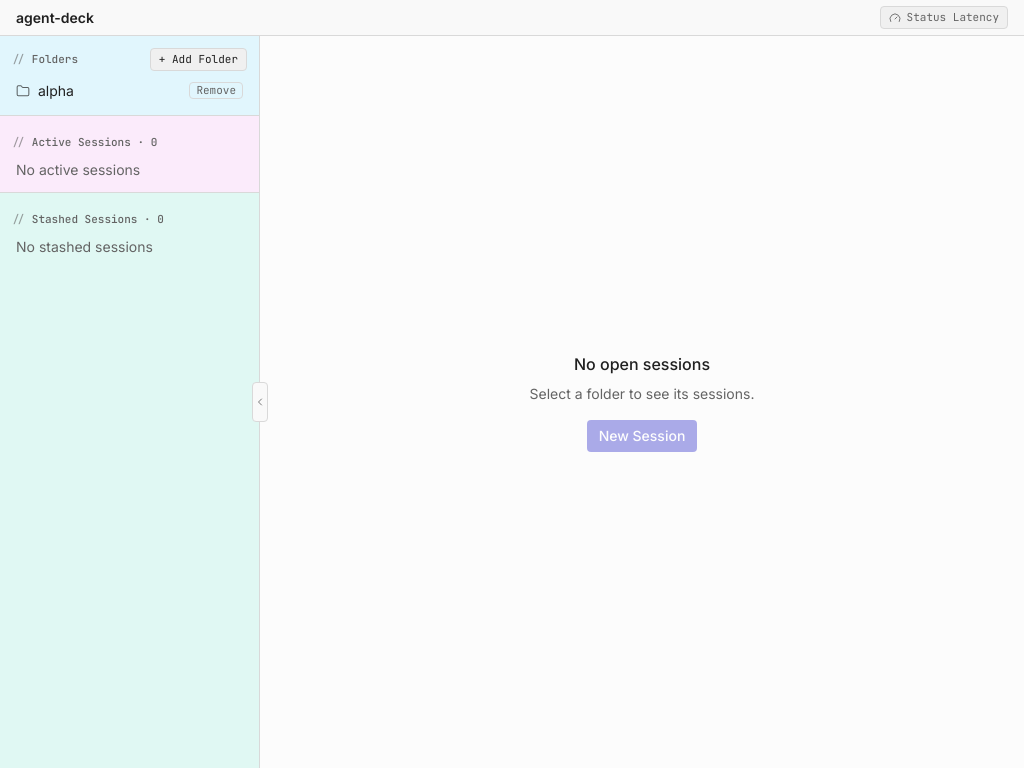
robustness (fix round 1) › shows a toast when remove rejects
The width and height of the screenshot is (1024, 768).
Expected: the text "alpha" is shown, [38,80,74,100]
Click the button with aria-label "Remove alpha".
click(216, 90)  # box [189,82,243,99]
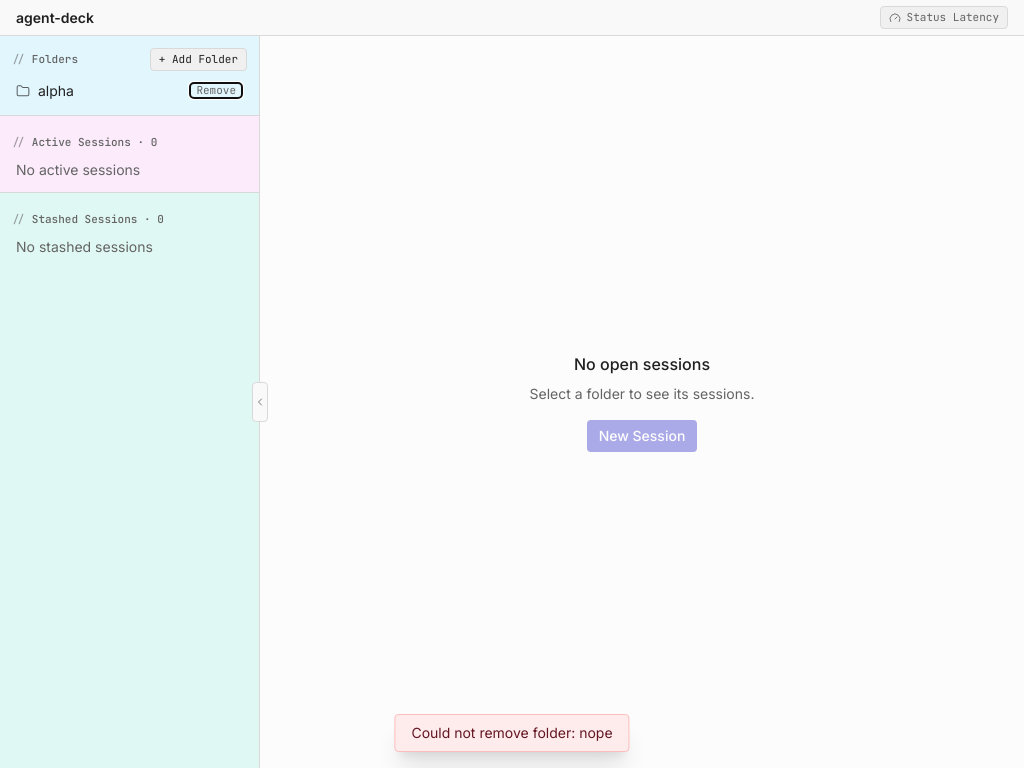
Expected: the text "Could not remove folder: nope" is shown, [394,714,630,752]
